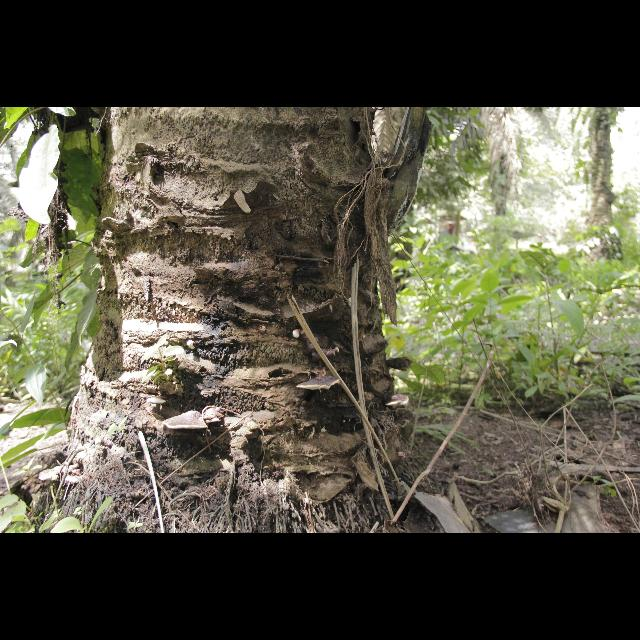ganoderma: (303, 330, 336, 363), (163, 412, 209, 431), (297, 376, 341, 392), (40, 467, 61, 484), (203, 409, 225, 425), (386, 396, 410, 409), (148, 397, 169, 406), (66, 474, 80, 484)
primordium: (96, 439, 107, 448), (188, 341, 197, 351), (294, 331, 302, 340), (349, 299, 354, 309), (336, 348, 341, 355)
